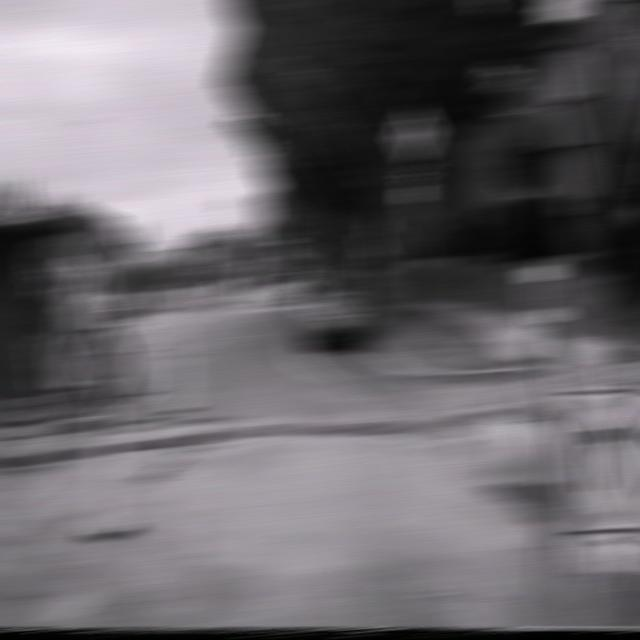pedestrianCrossing: (391, 101, 437, 164)
